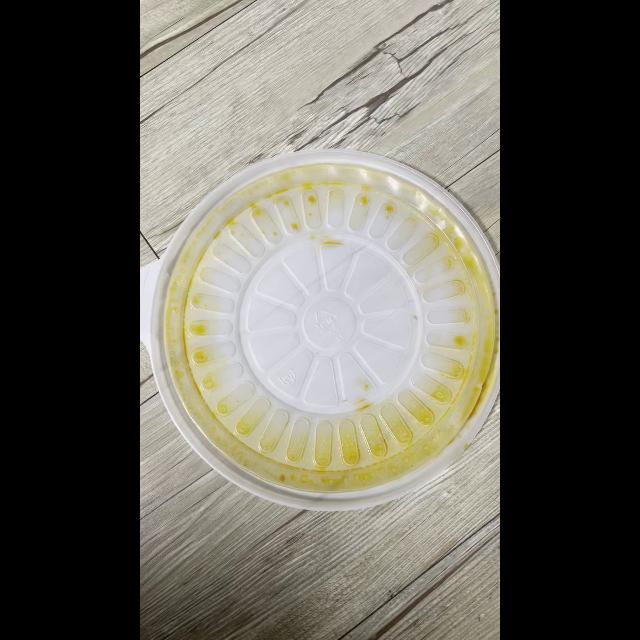dirty: (140, 154, 500, 510)
